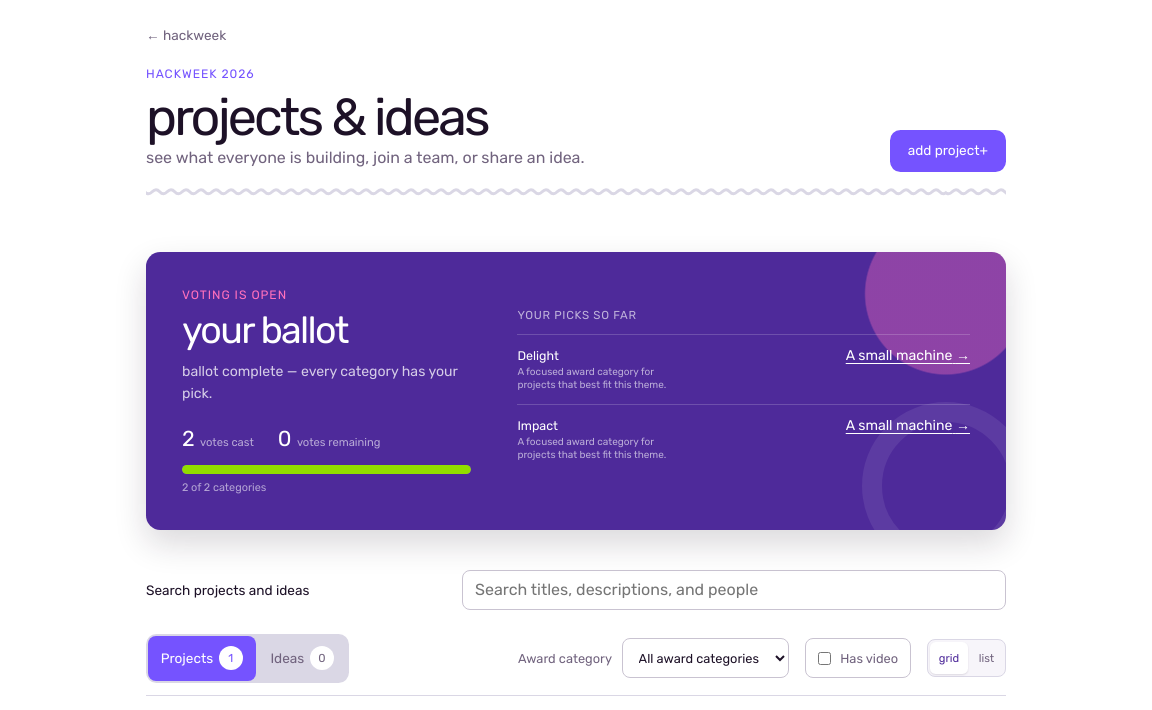
Test: clickable project routes › marks personal vote counts in both project views
Step 1. Click the button named "list view" → (986, 658), box [970,642,1003,674]
(page scrolled)
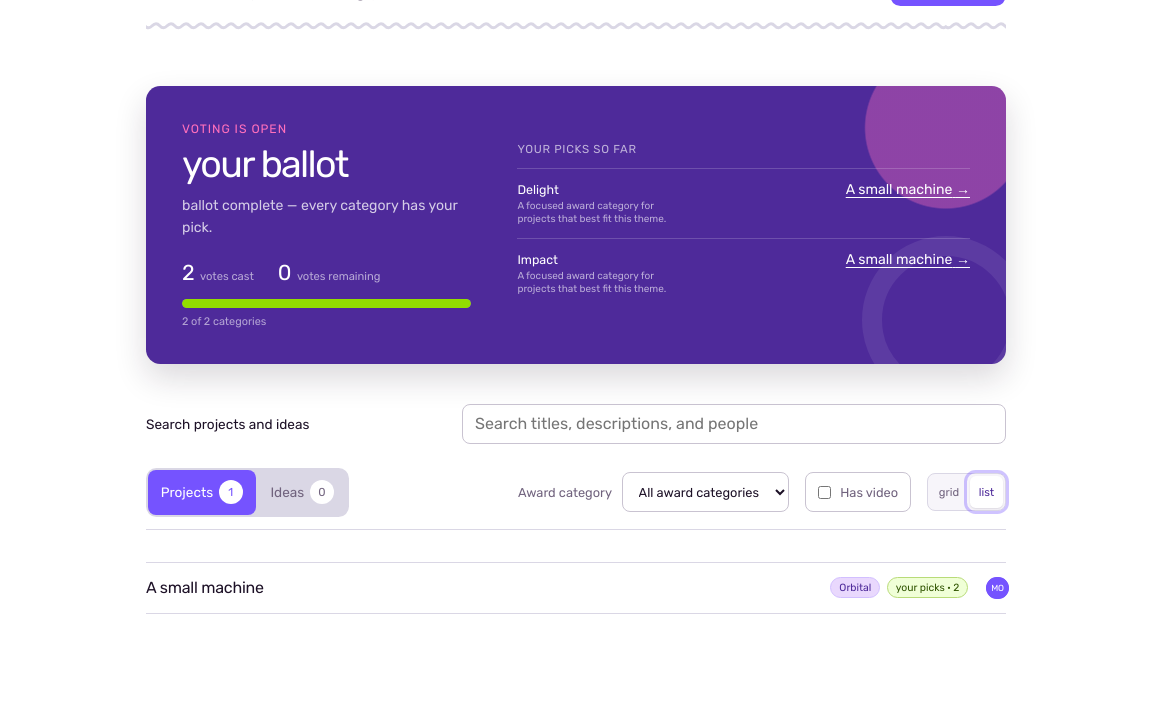
expect the element named "2 of your picks: Delight, Impact" is shown: met, box [146,563,1006,614]
